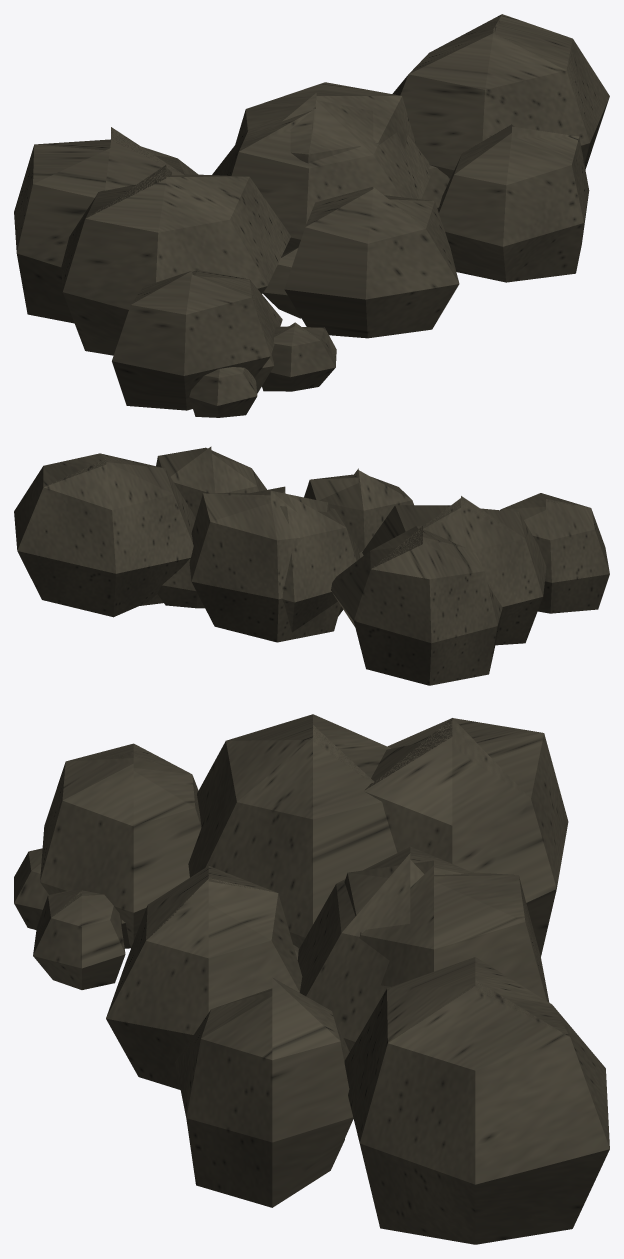
Rendered from PROP-8567FBD06306_lod2.glb.
3 views of the same model, one above another, from view 1: azimuth 30°, elevation 25°; view 2: azimuth 150°, elevation 25°; view 3: azimuth 270°, elevation 25° (orthographic). The views are drawn at different scales.
Parts seen in each view (by area): view 1: rock.002; view 2: rock.002; view 3: rock.002.
Boxes of the visible parts, <box> form: rock.002: <box>14,14,609,417</box>; rock.002: <box>14,446,609,685</box>; rock.002: <box>14,714,609,1244</box>.
Bounding box in the file's own units: 1.72 × 0.4394 × 1.05.
Materials: 1 (1 with a texture image).
